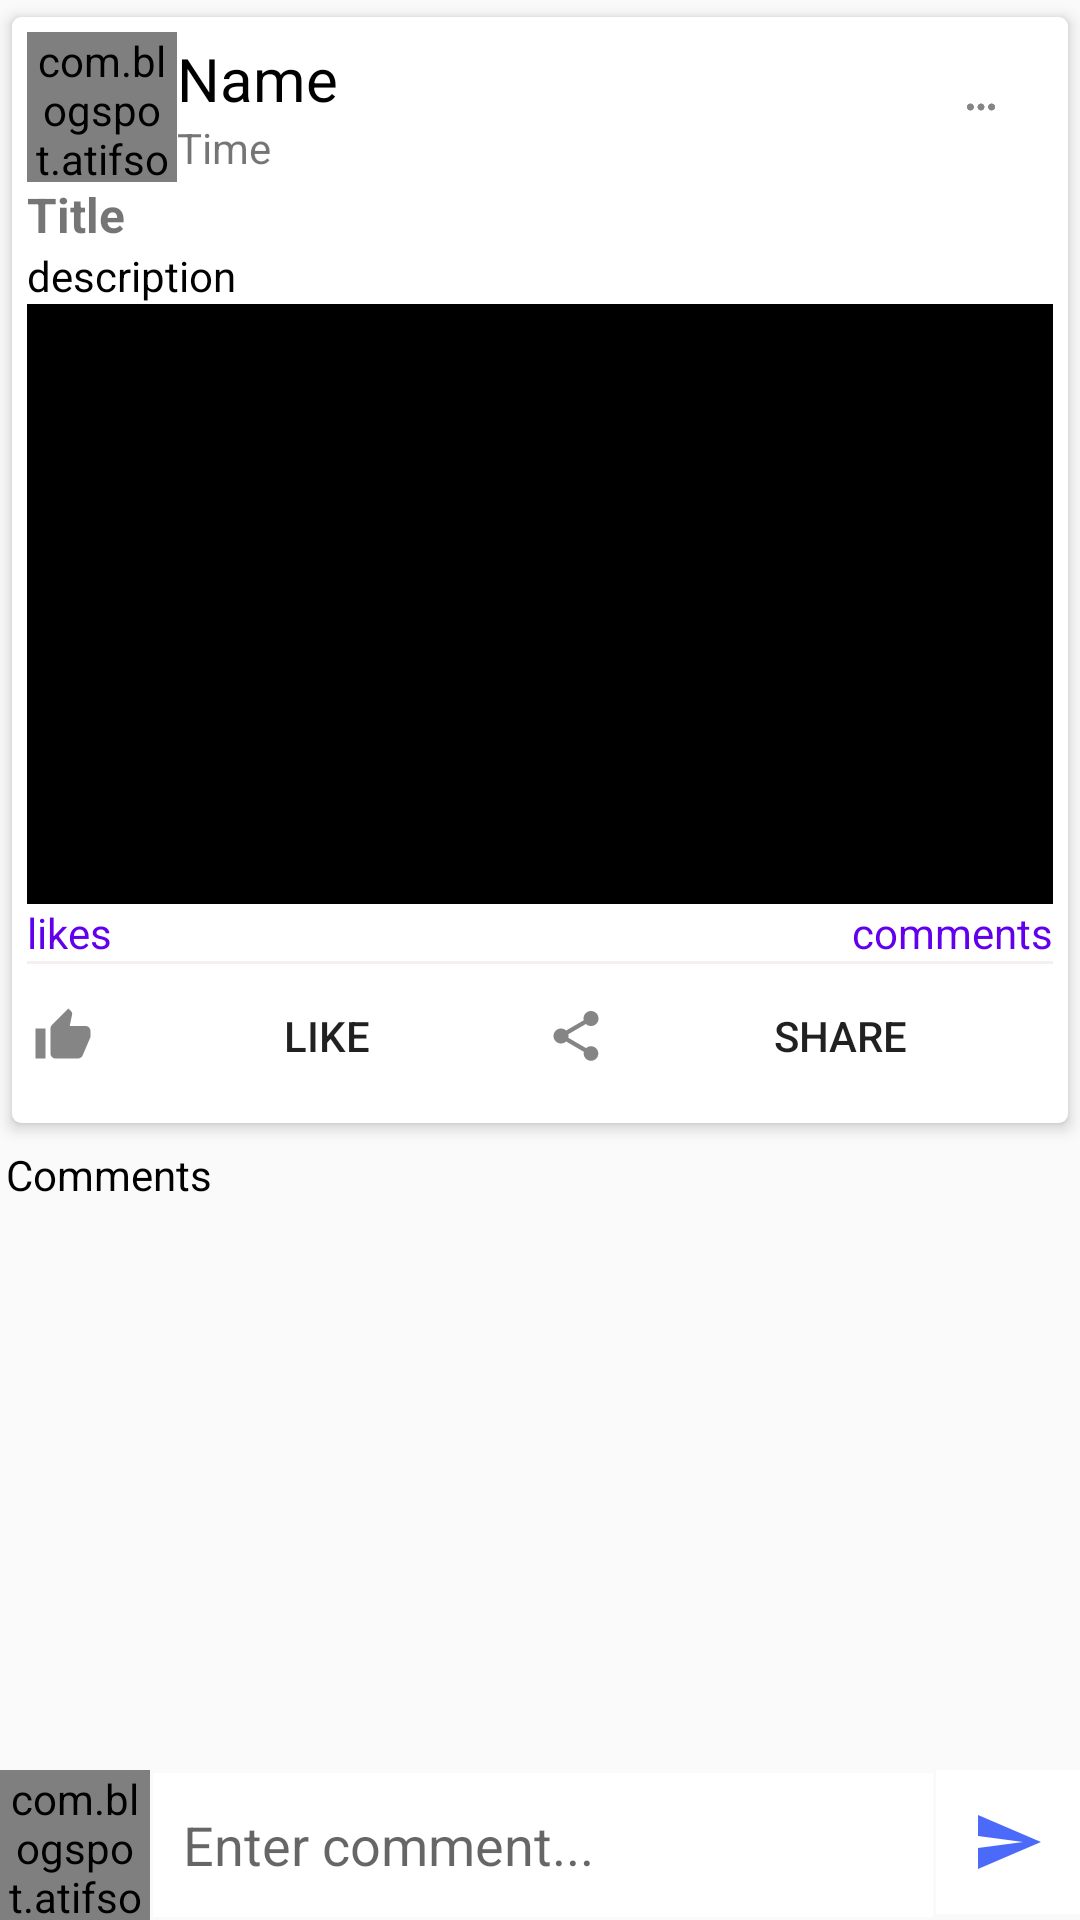

Icon click points for this 1080x1920 phone screenshot, format point (x, y):
More: point (981, 107)
send btn: point (1009, 1842)
